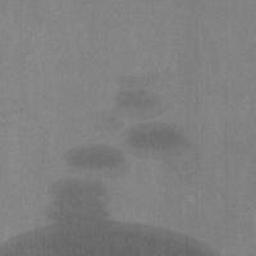Oil spot: (0, 69, 225, 256)
